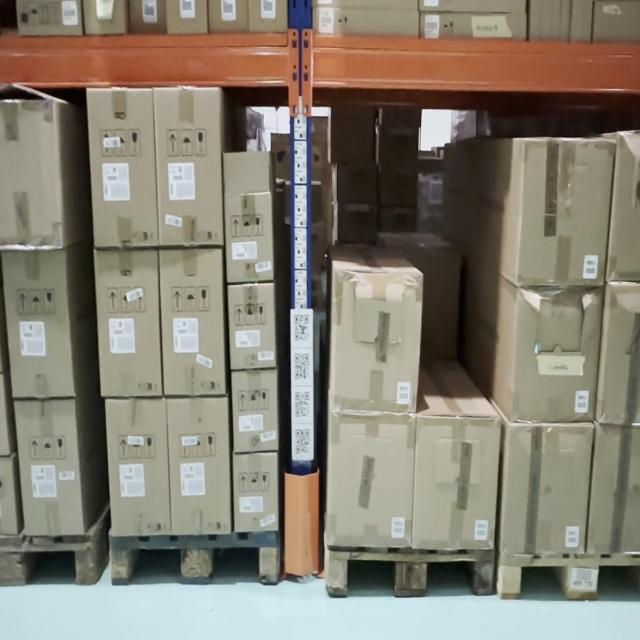box: (515, 142, 612, 290), (0, 249, 77, 399), (514, 295, 598, 426), (334, 282, 419, 407), (156, 92, 222, 248), (505, 430, 585, 554), (415, 419, 495, 539), (332, 418, 412, 537), (100, 251, 162, 401), (15, 395, 79, 539), (164, 255, 227, 393), (95, 90, 151, 242), (171, 400, 226, 534), (112, 404, 168, 530), (228, 191, 272, 286), (231, 287, 274, 367), (233, 457, 275, 525), (234, 377, 274, 447)
